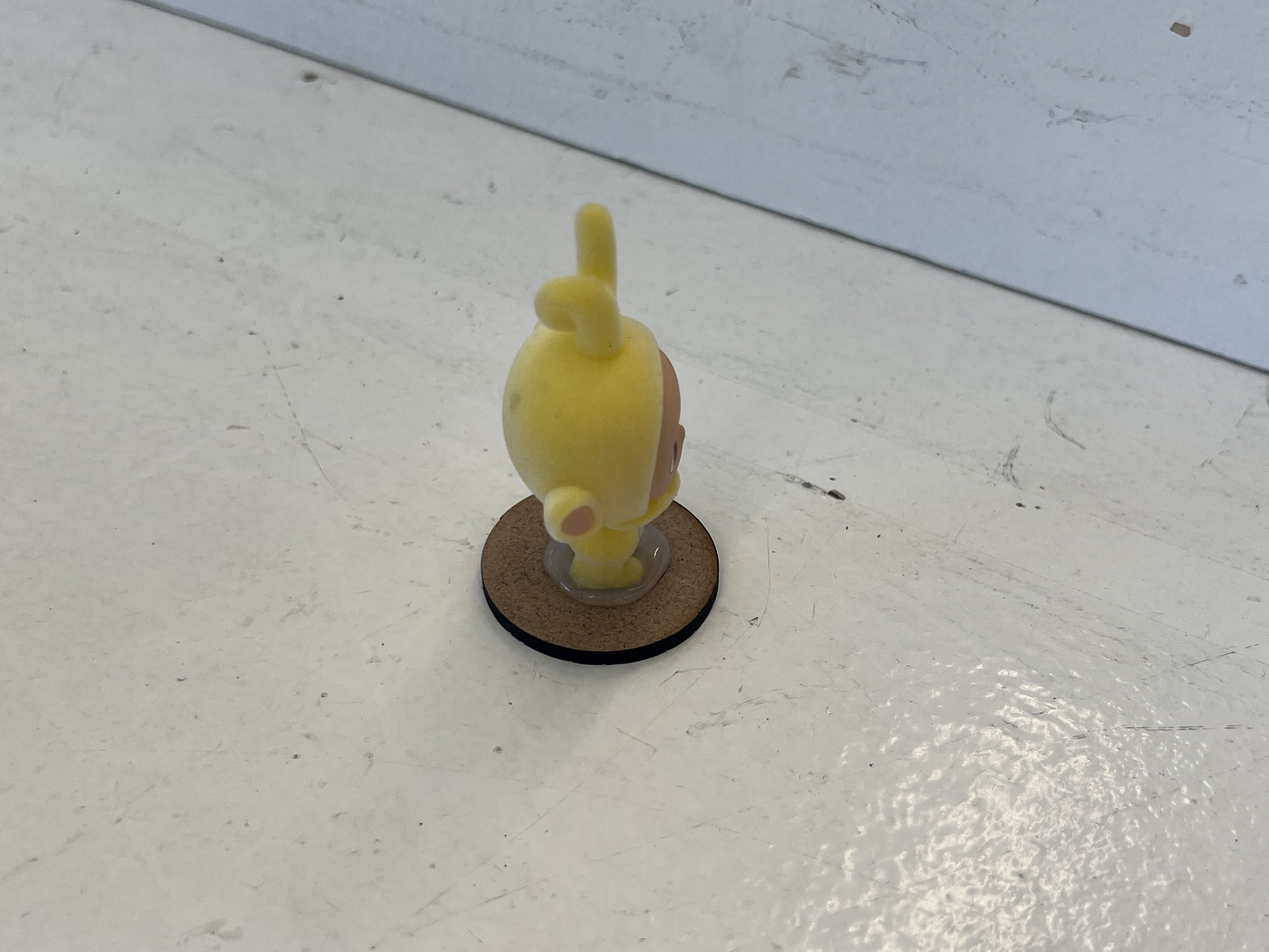teletubby: (503, 204, 685, 589)
